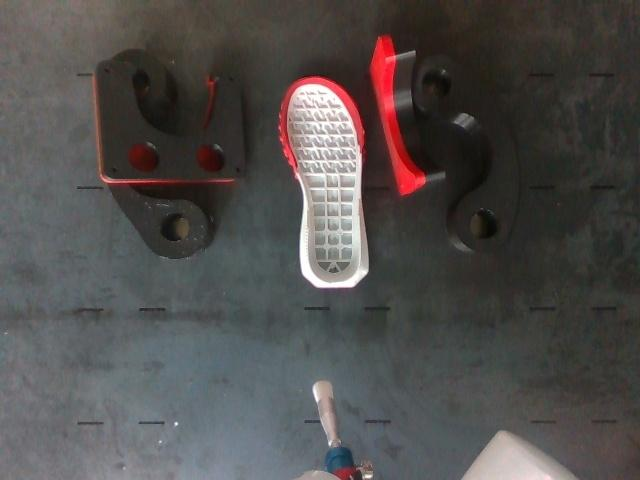shoes: (282, 77, 362, 282)
